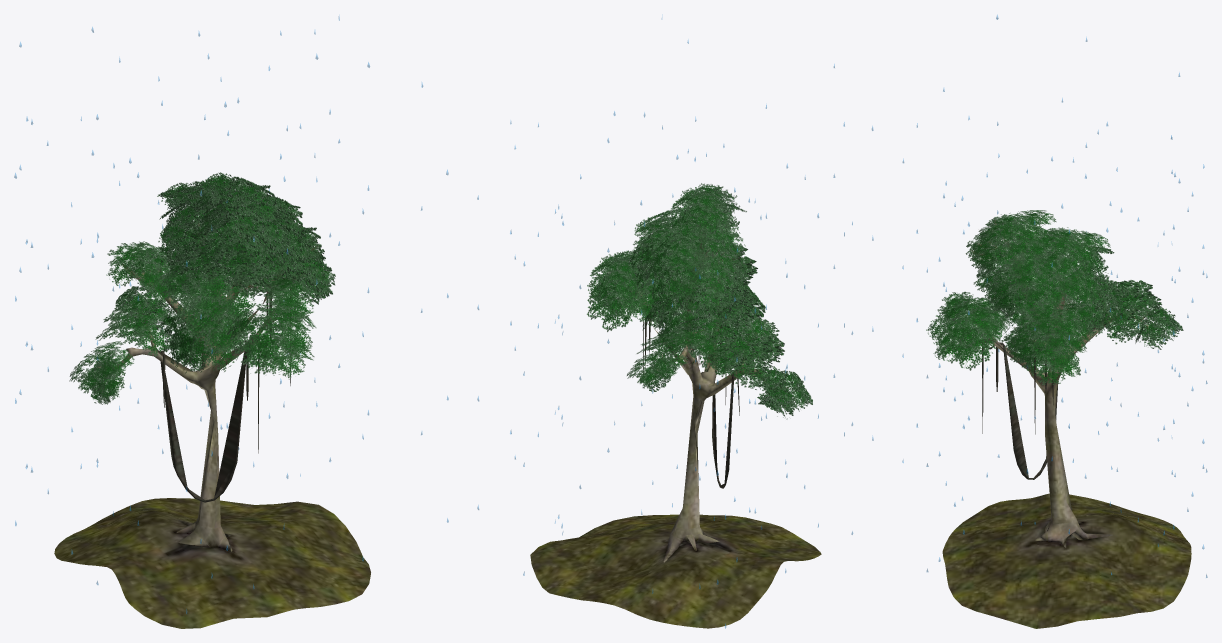
The model's file is Sinharaja.glb.
The picture shows the model from 3 angles, left to right: view 1: azimuth 30°, elevation 25°; view 2: azimuth 150°, elevation 25°; view 3: azimuth 270°, elevation 25°; orthographic projection. The views are drawn at different scales.
Parts seen in each view (by area): view 1: ground_low0, tree_low0, Vines.002, Leaf 1.089, Leaf 1.425, Leaf 1.411, Leaf 1.433, Leaf 1.191, Leaf 1.424, Leaf 1.208, Leaf 1.399, Leaf 1.412 (+6 smaller); view 2: ground_low0, tree_low0, Vines.002, Leaf 1.027, Leaf 1.392, Leaf 1.030; view 3: ground_low0, tree_low0, Vines.002, Leaf 1.002, Leaf 1.160, Leaf 1.344, Leaf 1.110, Leaf 1.005, Leaf 1.224, Leaf 1.087, Leaf 1.383, Leaf 1.003 (+13 smaller).
Boxes of the visible parts, <box> form: ground_low0: <box>54,498,370,628</box>; tree_low0: <box>116,212,304,552</box>; Vines.002: <box>160,276,293,502</box>; Leaf 1.089: <box>231,319,280,370</box>; Leaf 1.425: <box>162,316,196,365</box>; Leaf 1.411: <box>217,284,256,322</box>; Leaf 1.433: <box>191,269,233,304</box>; Leaf 1.191: <box>221,237,270,276</box>; Leaf 1.424: <box>168,321,218,373</box>; Leaf 1.208: <box>204,225,248,263</box>; Leaf 1.399: <box>175,292,227,333</box>; Leaf 1.412: <box>192,281,232,322</box>; ground_low0: <box>530,514,821,628</box>; tree_low0: <box>638,234,766,562</box>; Vines.002: <box>643,302,739,488</box>; Leaf 1.027: <box>722,333,770,371</box>; Leaf 1.392: <box>646,288,692,320</box>; Leaf 1.030: <box>731,357,771,389</box>; ground_low0: <box>942,493,1191,628</box>; tree_low0: <box>967,229,1141,547</box>; Vines.002: <box>982,341,1057,479</box>; Leaf 1.002: <box>1114,288,1157,320</box>; Leaf 1.160: <box>1008,215,1042,244</box>; Leaf 1.344: <box>1053,266,1085,302</box>; Leaf 1.110: <box>1046,309,1080,338</box>; Leaf 1.005: <box>1111,309,1147,337</box>; Leaf 1.224: <box>1064,233,1096,262</box>; Leaf 1.087: <box>952,337,996,370</box>; Leaf 1.383: <box>1074,301,1106,338</box>; Leaf 1.003: <box>1111,280,1152,297</box>.
Size of the model in its own units: 1.44 by 2.54 by 1.4.
Materials: 10 (5 with a texture image).
